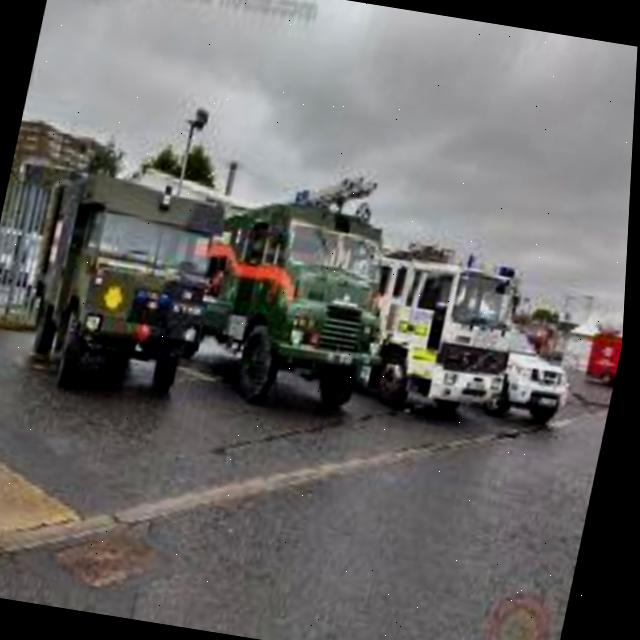emergency: (347, 244, 537, 421), (472, 320, 585, 433)
